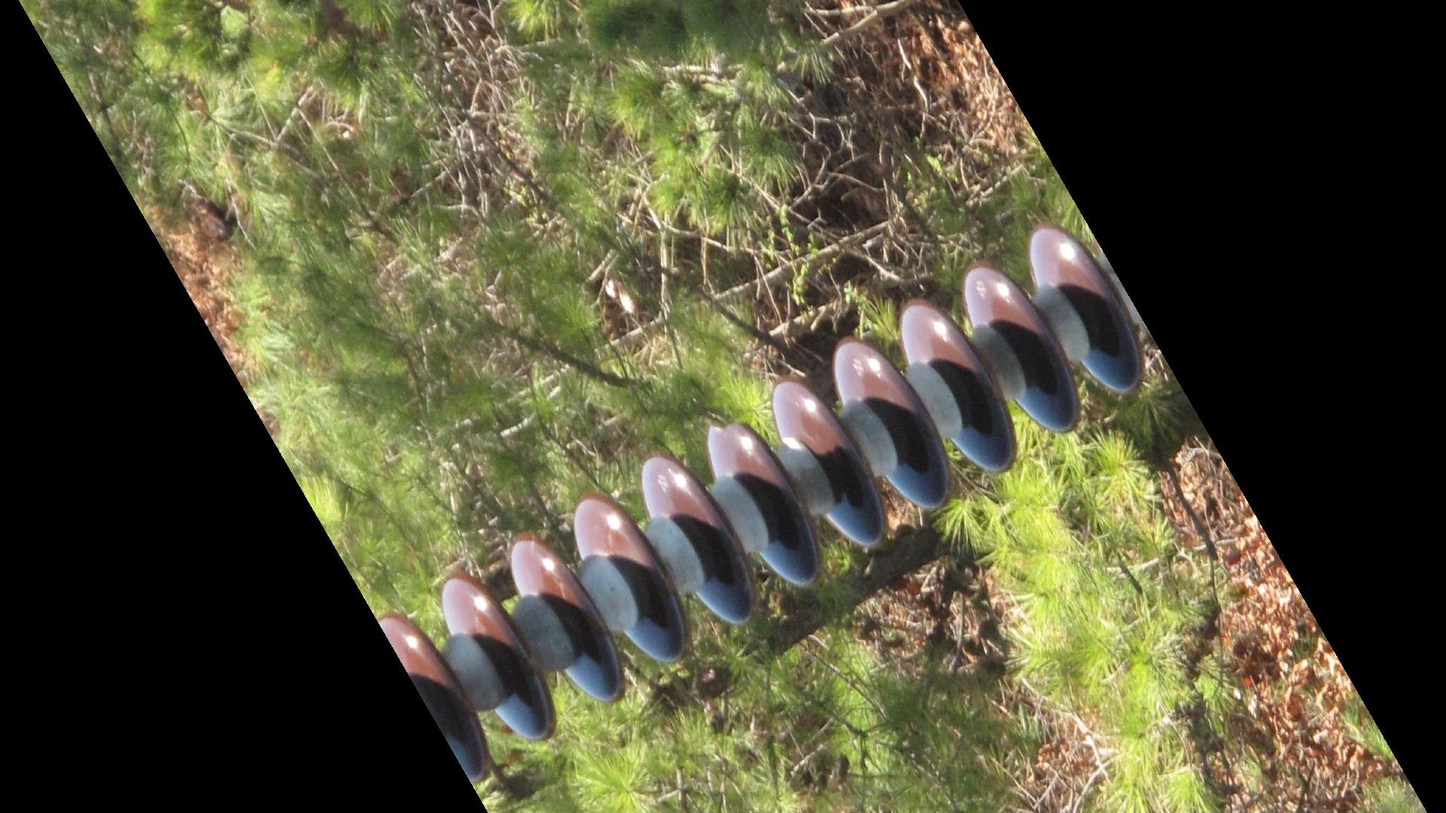insulator: (368, 219, 1155, 787)
insulator_breakage: (704, 410, 757, 449)
